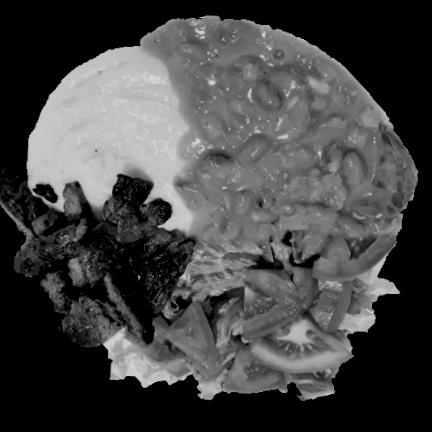beans: (141, 19, 420, 241)
meat: (0, 163, 197, 350)
potato: (30, 45, 191, 234)
salad: (158, 240, 330, 350), (336, 261, 400, 357), (101, 329, 173, 388), (176, 354, 232, 398), (289, 367, 342, 398)
tomato: (124, 233, 394, 391)
